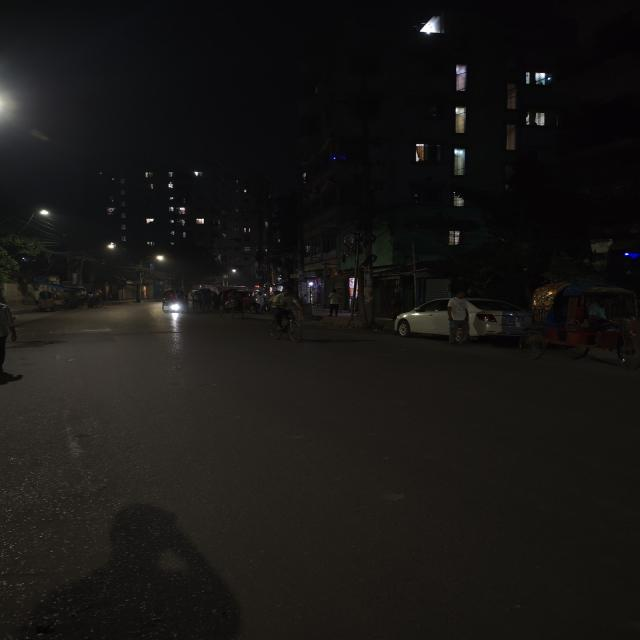bicycle: (266, 301, 307, 344)
car: (387, 293, 527, 347)
pedestrian: (440, 287, 474, 347)
rickshaw: (522, 277, 640, 371), (216, 287, 256, 319), (33, 287, 73, 313), (156, 288, 190, 316), (70, 288, 108, 312), (188, 285, 220, 312)
